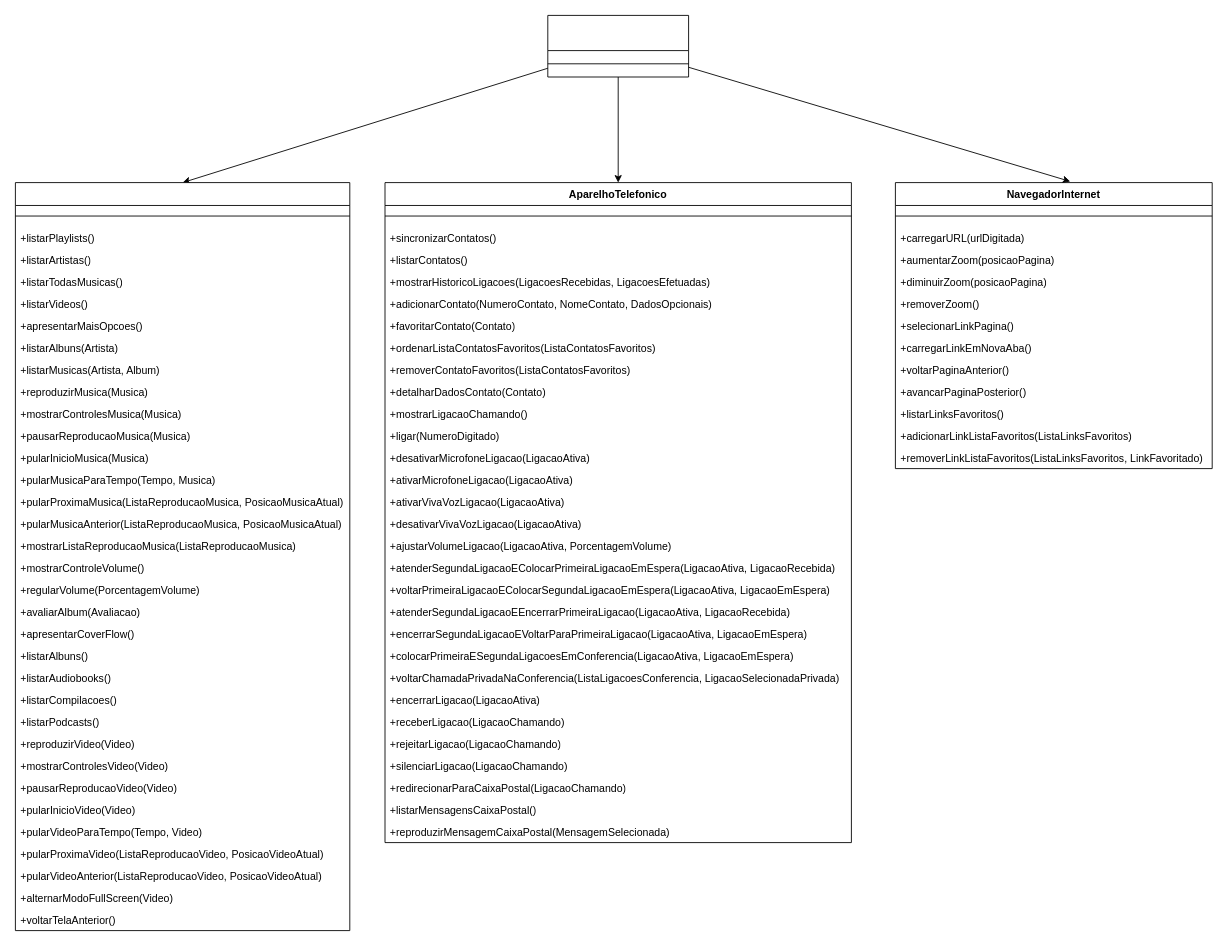
Image size: 1228x949. Some labels were removed from this diagram. Each missing label, with the box of its shape:
<<instance>> IPhone: (547, 15, 689, 77)
ReprodutorMusical: (15, 182, 350, 931)
